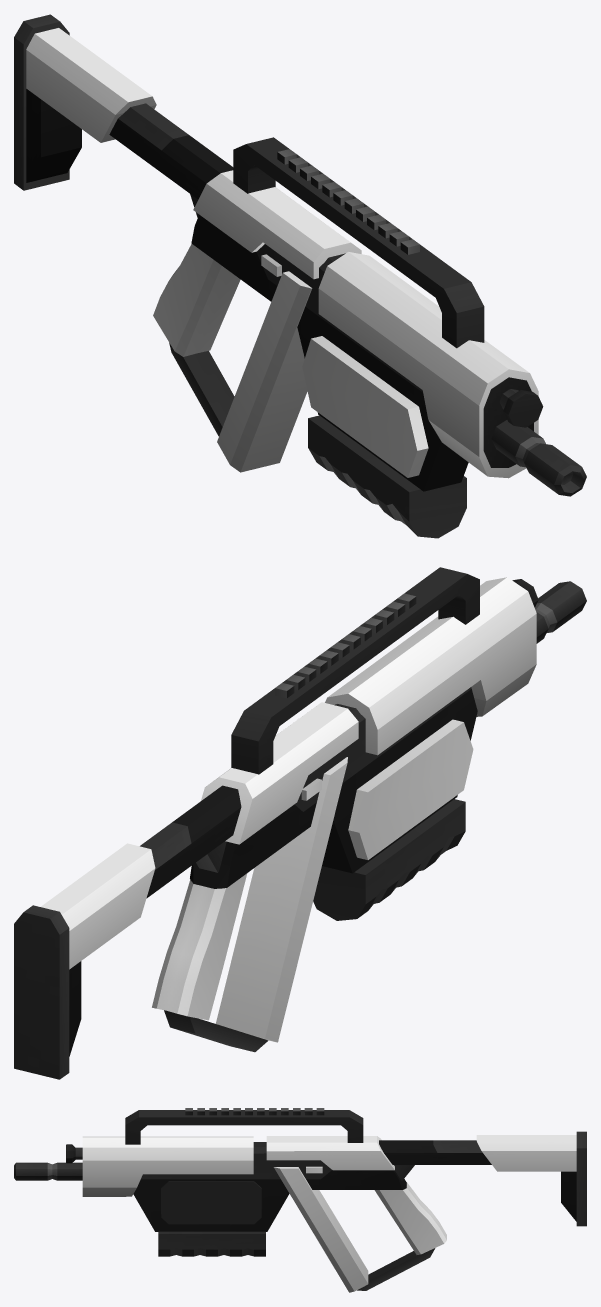
File: ARBody_mesh.fbx
3 views of the same model, one above another, from view 1: azimuth 30°, elevation 25°; view 2: azimuth 150°, elevation 25°; view 3: azimuth 270°, elevation 25° (orthographic). The views are drawn at different scales.
Visible parts, largest first — view 1: ARBody_mesh; view 2: ARBody_mesh; view 3: ARBody_mesh.
Part boxes in pixels (bbox=[...]): ARBody_mesh: bbox=[14, 14, 586, 538]; ARBody_mesh: bbox=[14, 567, 586, 1079]; ARBody_mesh: bbox=[14, 1108, 586, 1292].
Bounding box in the file's own units: 4.29 × 23.05 × 67.2.
